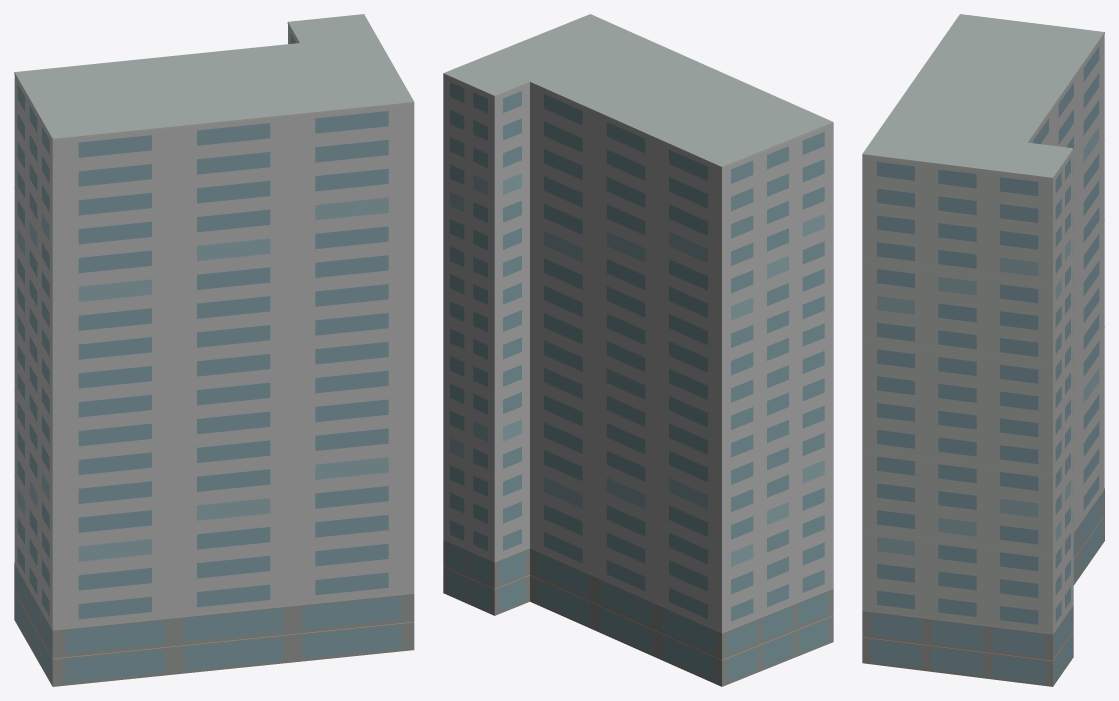
Rendered from residential-3c88d05e-9a31-4acb-aeb0-9050570973da.glb.
The picture shows the model from 3 angles, left to right: view 1: azimuth 30°, elevation 25°; view 2: azimuth 150°, elevation 25°; view 3: azimuth 270°, elevation 25°; orthographic projection. The views are drawn at different scales.
Visible parts, largest first — view 1: residential-3c88d05e-9a31-4acb-aeb0-9050570973da.tmp; view 2: residential-3c88d05e-9a31-4acb-aeb0-9050570973da.tmp; view 3: residential-3c88d05e-9a31-4acb-aeb0-9050570973da.tmp.
Part boxes in pixels (left/top/right/bottom): residential-3c88d05e-9a31-4acb-aeb0-9050570973da.tmp: left=14, top=14, right=414, bottom=686; residential-3c88d05e-9a31-4acb-aeb0-9050570973da.tmp: left=443, top=14, right=833, bottom=686; residential-3c88d05e-9a31-4acb-aeb0-9050570973da.tmp: left=862, top=14, right=1104, bottom=686.
Bounding box in the file's own units: 43.51 × 63 × 27.23.
